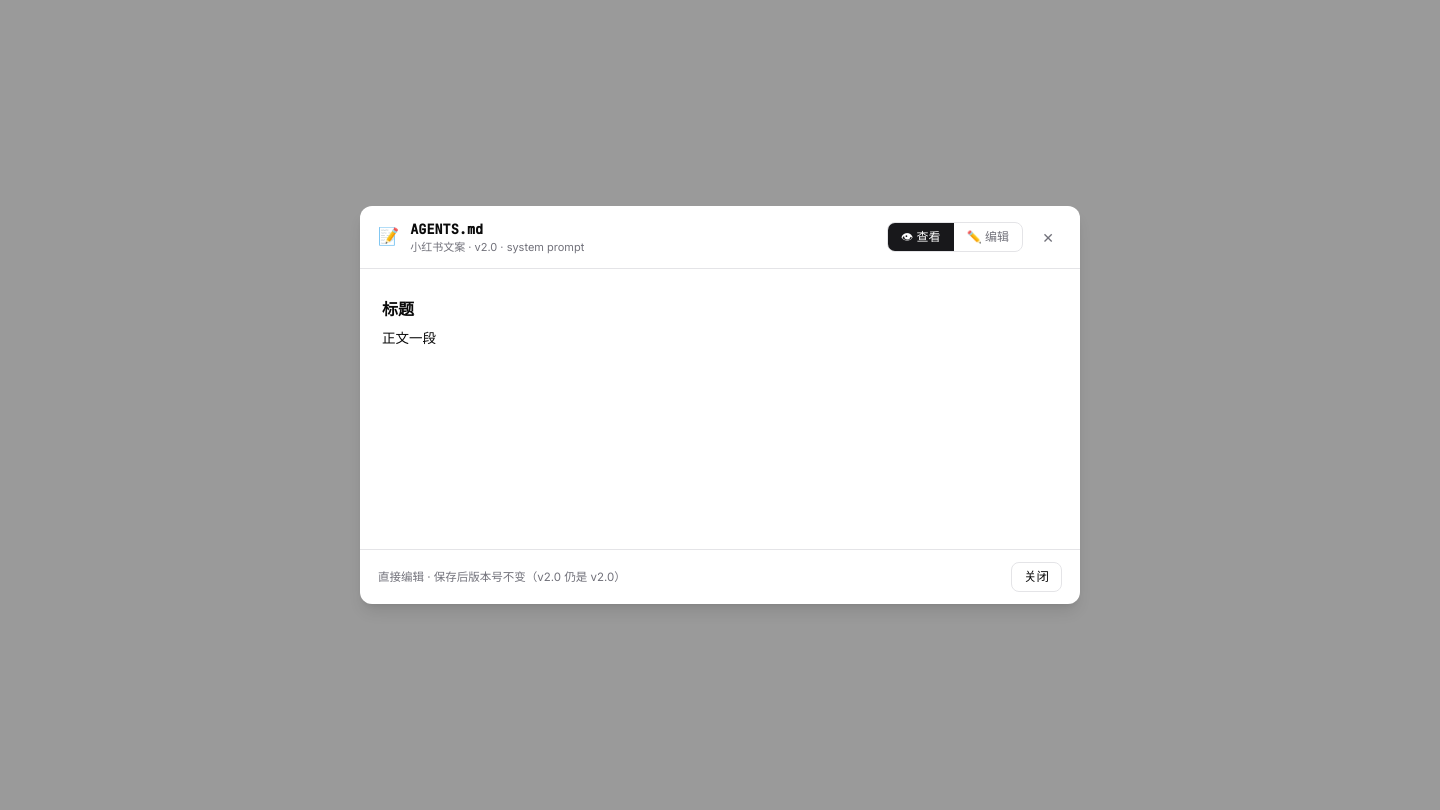
ComponentModalMdEditor — view/edit 切换 › edit → 点「👁 查看」切回：textarea 收起、保存按钮消失
The width and height of the screenshot is (1440, 810).
Click the button "✏️ 编辑" at [988, 237], box [954,223,1022,251]
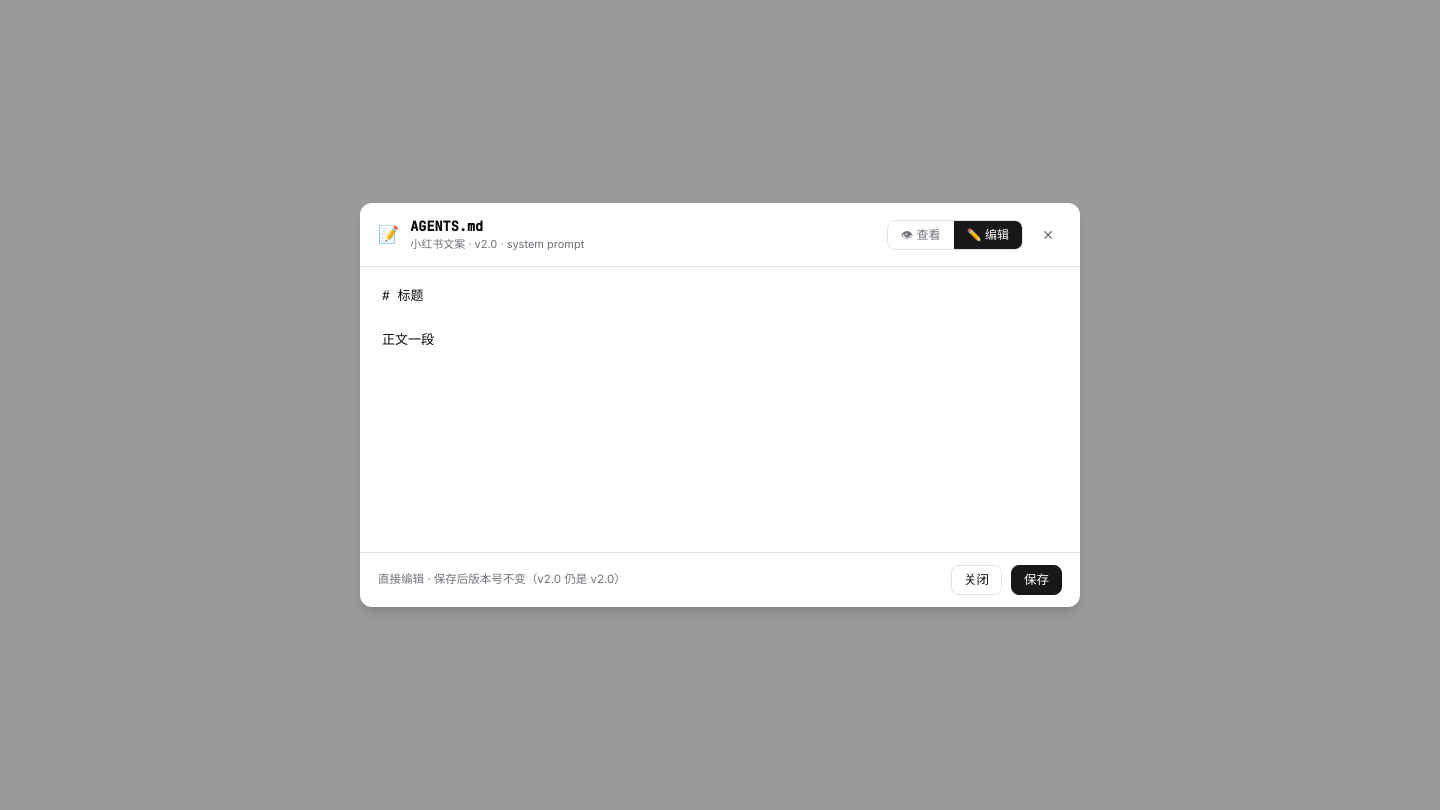
Click the button "👁 查看" at [921, 234], box [888,220,954,248]
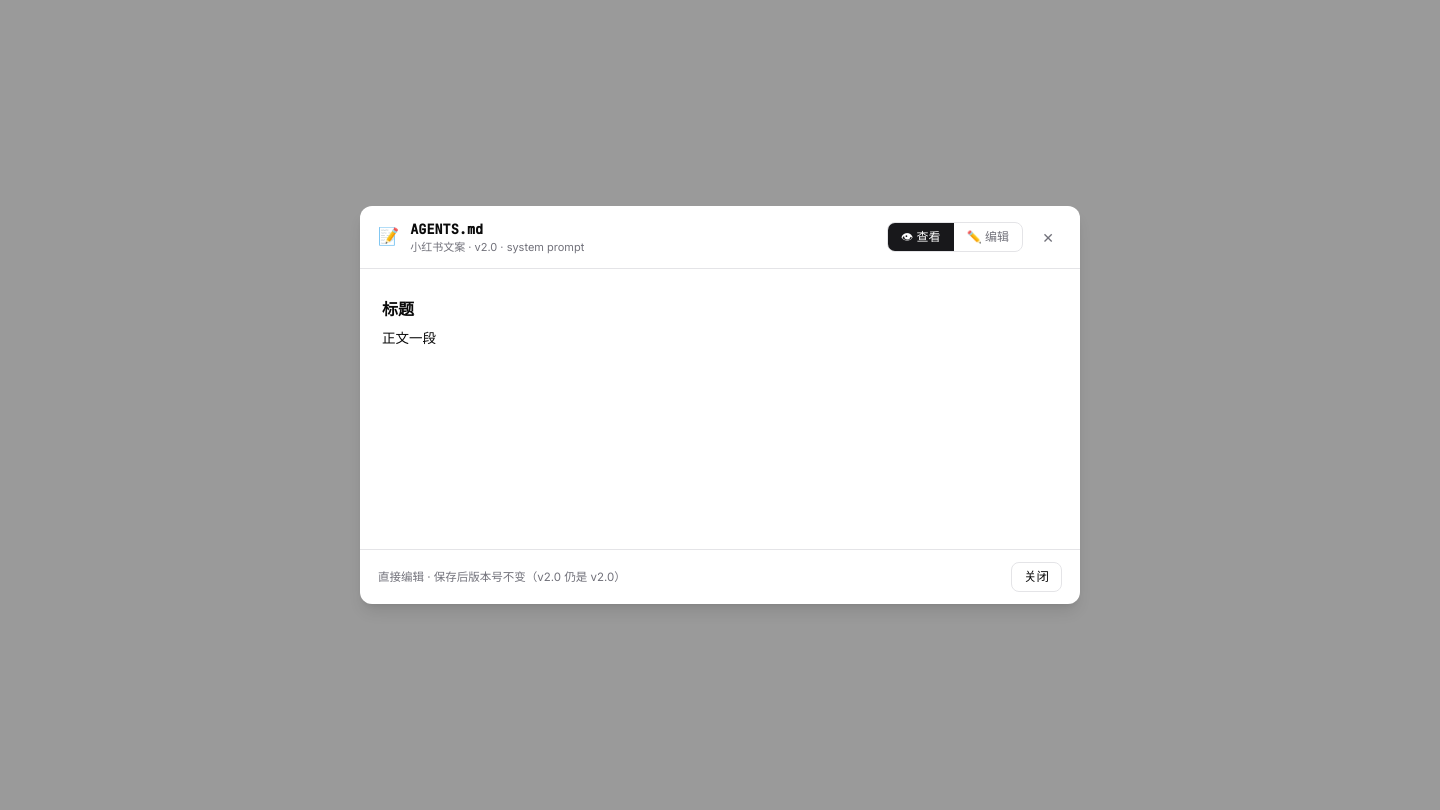
Expected: the text box is gone
